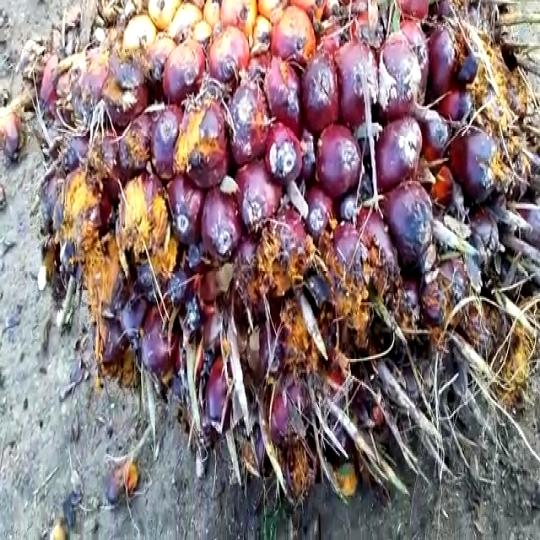masak: (42, 0, 540, 469)
